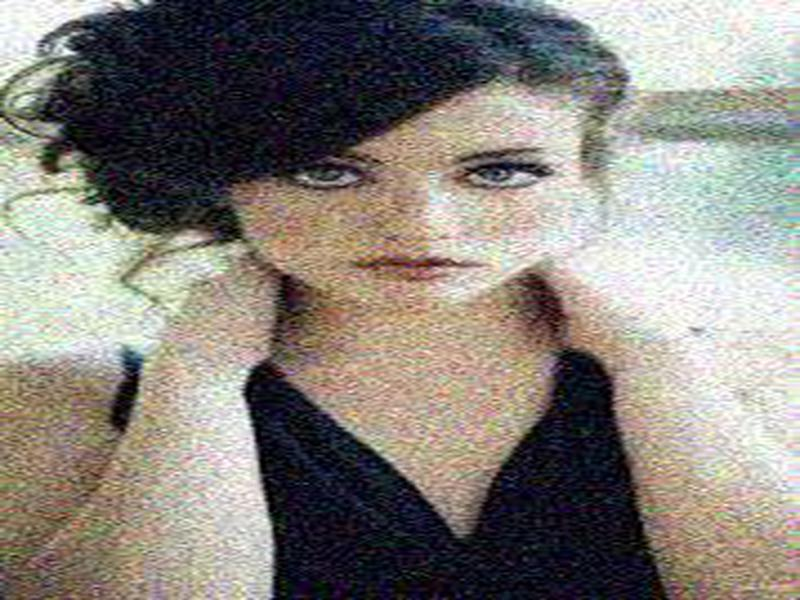without_mask: (233, 108, 587, 323)
